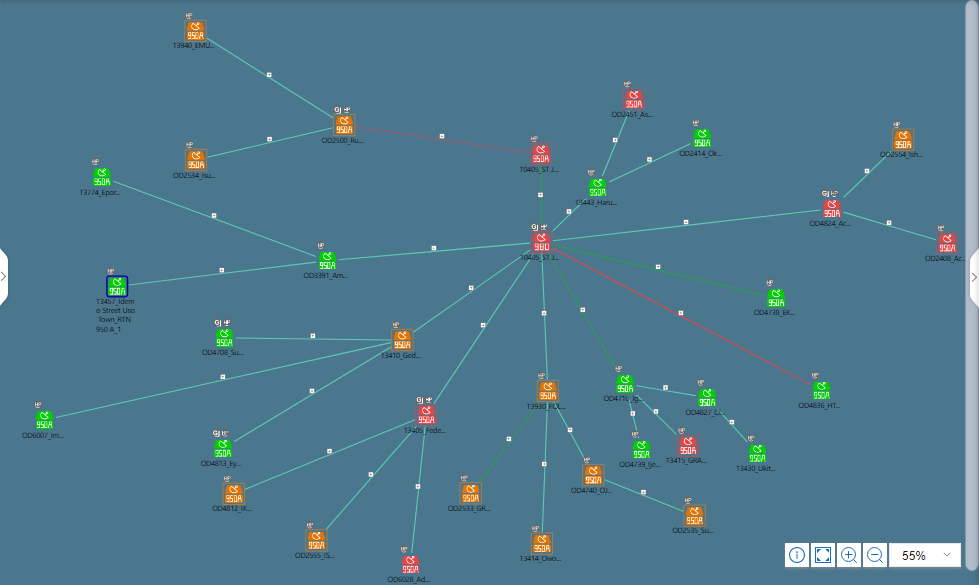Link_Blue: (58, 338, 385, 423), (113, 179, 320, 263), (431, 253, 540, 410), (239, 345, 393, 447), (248, 418, 408, 487), (413, 247, 534, 326), (213, 39, 327, 115), (327, 424, 413, 523), (554, 210, 791, 245), (132, 259, 320, 285), (340, 240, 520, 263), (205, 124, 329, 156), (849, 210, 938, 245), (609, 143, 684, 181), (610, 479, 687, 514), (841, 149, 895, 193), (633, 393, 681, 441), (554, 406, 589, 465), (603, 112, 632, 166), (413, 424, 430, 508), (554, 198, 581, 224), (719, 415, 745, 439), (627, 406, 644, 441), (542, 406, 552, 453), (542, 332, 552, 377), (670, 387, 699, 393), (672, 387, 693, 393)
Link_Green: (577, 247, 763, 300), (548, 253, 616, 371), (480, 406, 535, 475)
Link_Red: (554, 247, 808, 381), (358, 124, 525, 150)
RTN_Green: (615, 375, 638, 398), (811, 381, 834, 404), (107, 277, 130, 300), (211, 442, 234, 459), (34, 412, 57, 429), (95, 167, 112, 190), (701, 387, 717, 410), (768, 289, 783, 312), (750, 442, 765, 465), (217, 332, 234, 349), (590, 179, 607, 196), (633, 442, 649, 458), (694, 130, 710, 146), (321, 253, 338, 268)
RTN_Orange: (223, 485, 246, 508), (584, 467, 607, 490), (462, 485, 485, 508), (187, 149, 210, 172), (187, 20, 210, 43), (890, 130, 912, 153), (535, 381, 557, 404), (529, 534, 551, 557), (303, 528, 326, 549), (682, 504, 704, 525), (333, 118, 356, 133), (395, 332, 411, 349)
RTN_Red: (529, 143, 552, 166), (823, 198, 846, 221), (939, 234, 962, 257), (676, 436, 698, 459), (621, 88, 642, 110), (529, 234, 552, 251), (401, 559, 424, 575), (419, 406, 434, 429)
